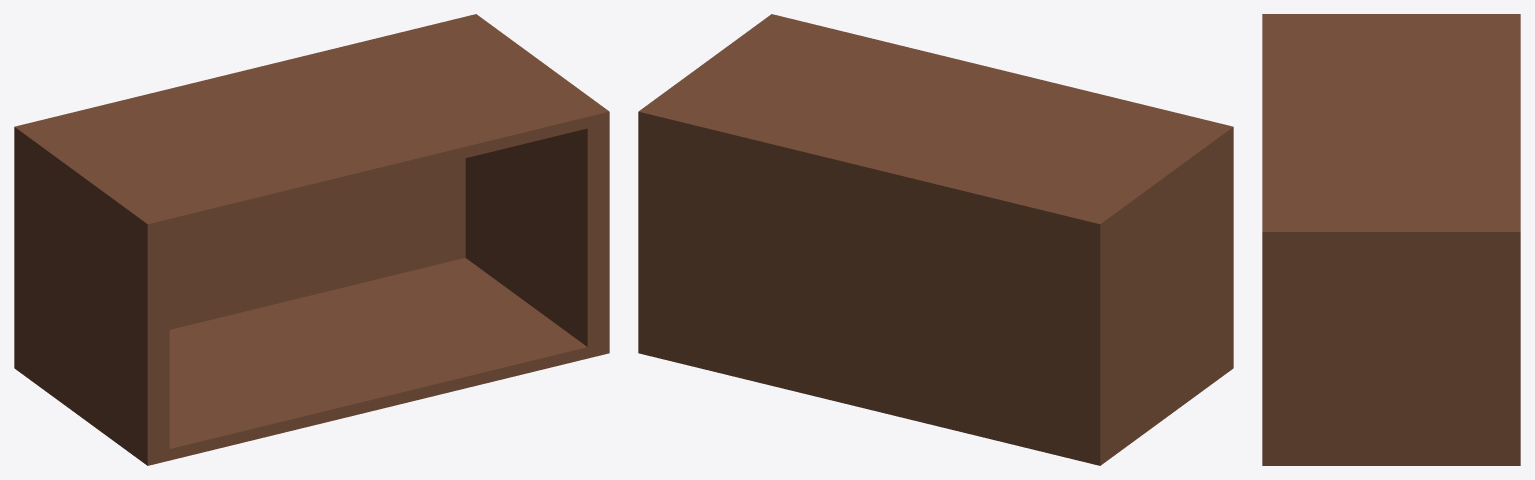
File: Cabinet_1_Hole.fbx
3 views of the same model, side by side, from view 1: azimuth 30°, elevation 25°; view 2: azimuth 150°, elevation 25°; view 3: azimuth 270°, elevation 25° (orthographic). The views are drawn at different scales.
Visible parts, largest first — view 1: CABINET 1 HOLE; view 2: CABINET 1 HOLE; view 3: CABINET 1 HOLE.
Part boxes in pixels (x1,y1,x2,y2): CABINET 1 HOLE: (14, 14, 609, 465); CABINET 1 HOLE: (638, 14, 1233, 465); CABINET 1 HOLE: (1262, 14, 1520, 465).
Size of the model in its own units: 100 by 50 by 50.
